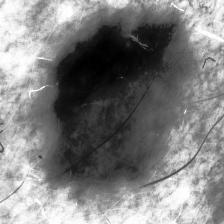Benign Marking or Mole: (50, 10, 184, 182)
